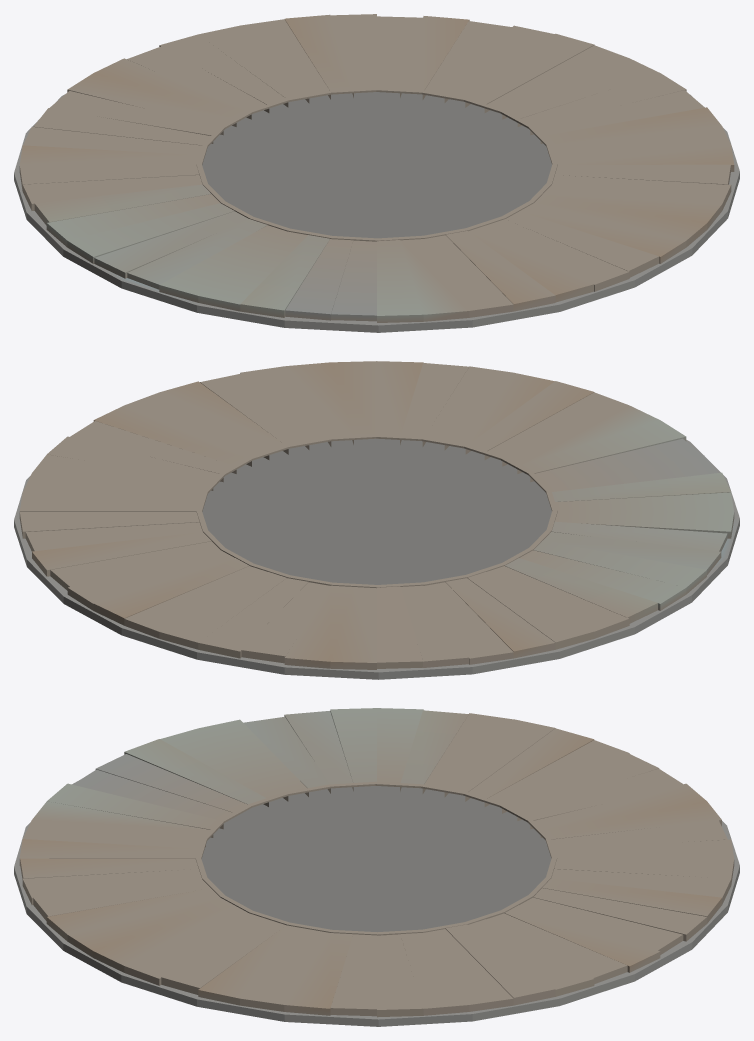
The picture shows the model from 3 angles, top to bottom: view 1: azimuth 30°, elevation 25°; view 2: azimuth 150°, elevation 25°; view 3: azimuth 270°, elevation 25°; orthographic projection.
Parts seen in each view (by area): view 1: G:\FFXIV-MapTools\exports\s1f3\bg\ffxiv\sea_s1\fld\s1f3\bgpa (×3); view 2: G:\FFXIV-MapTools\exports\s1f3\bg\ffxiv\sea_s1\fld\s1f3\bgpa (×3); view 3: G:\FFXIV-MapTools\exports\s1f3\bg\ffxiv\sea_s1\fld\s1f3\bgpa (×3).
Boxes of the visible parts, x1,y1,x2,y2 form: G:\FFXIV-MapTools\exports\s1f3\bg\ffxiv\sea_s1\fld\s1f3\bgpa (×3): (14,14,739,332); G:\FFXIV-MapTools\exports\s1f3\bg\ffxiv\sea_s1\fld\s1f3\bgpa (×3): (14,361,739,679); G:\FFXIV-MapTools\exports\s1f3\bg\ffxiv\sea_s1\fld\s1f3\bgpa (×3): (14,708,739,1026).
Size of the model in its own units: 21.61 by 0.5064 by 21.61.
